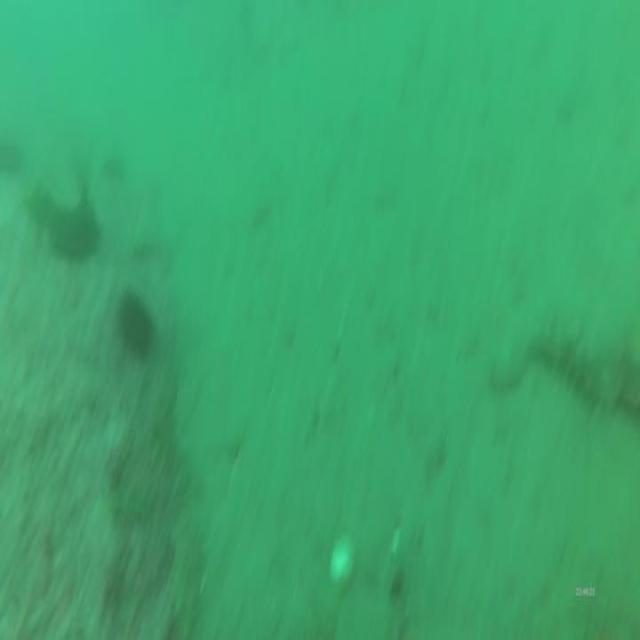echinus: (44, 199, 100, 266), (114, 284, 154, 365), (0, 130, 28, 182)
holothurian: (535, 309, 640, 426)
